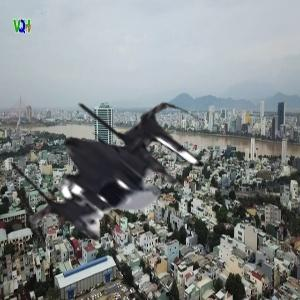drone: (7, 70, 220, 283)
